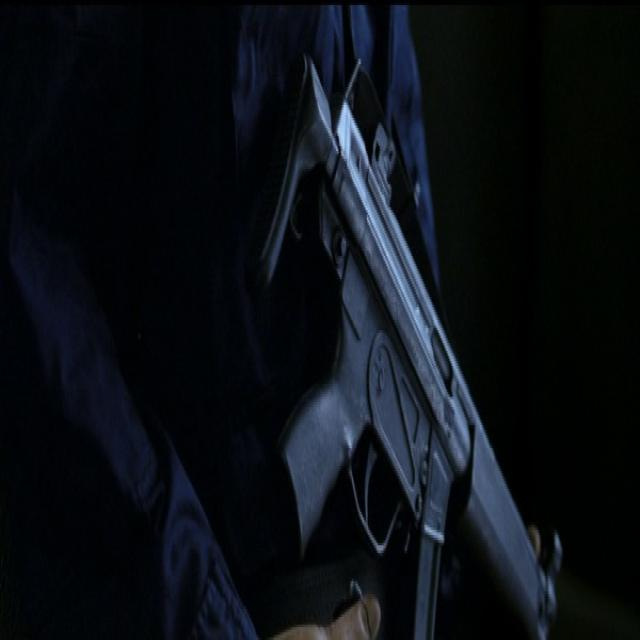rifle: (250, 37, 572, 640)
